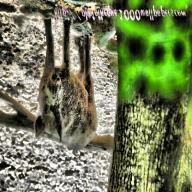boar: (20, 37, 105, 168)
